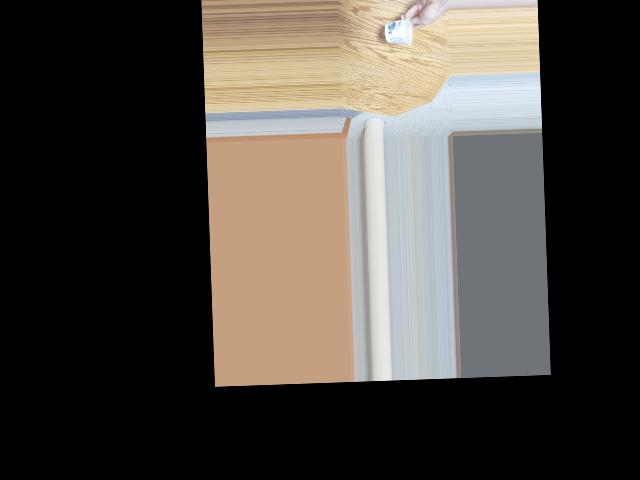cotage: (386, 16, 414, 49)
